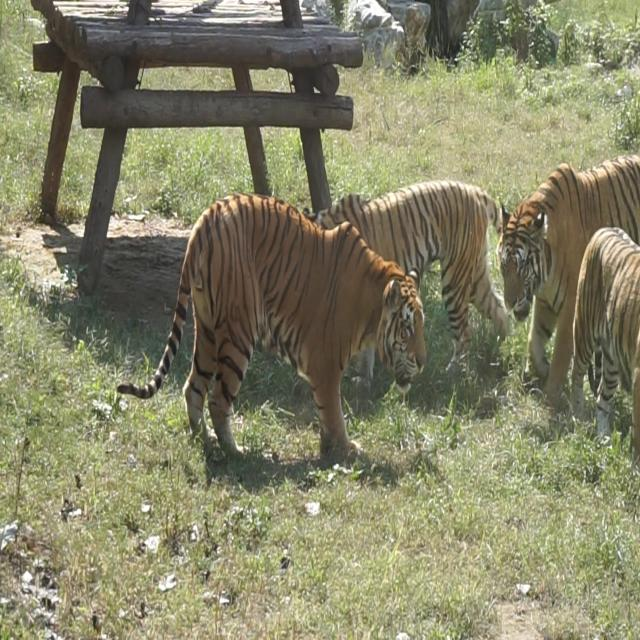Tiger: (114, 182, 429, 488), (310, 180, 509, 372), (498, 150, 640, 384), (568, 222, 640, 453)
